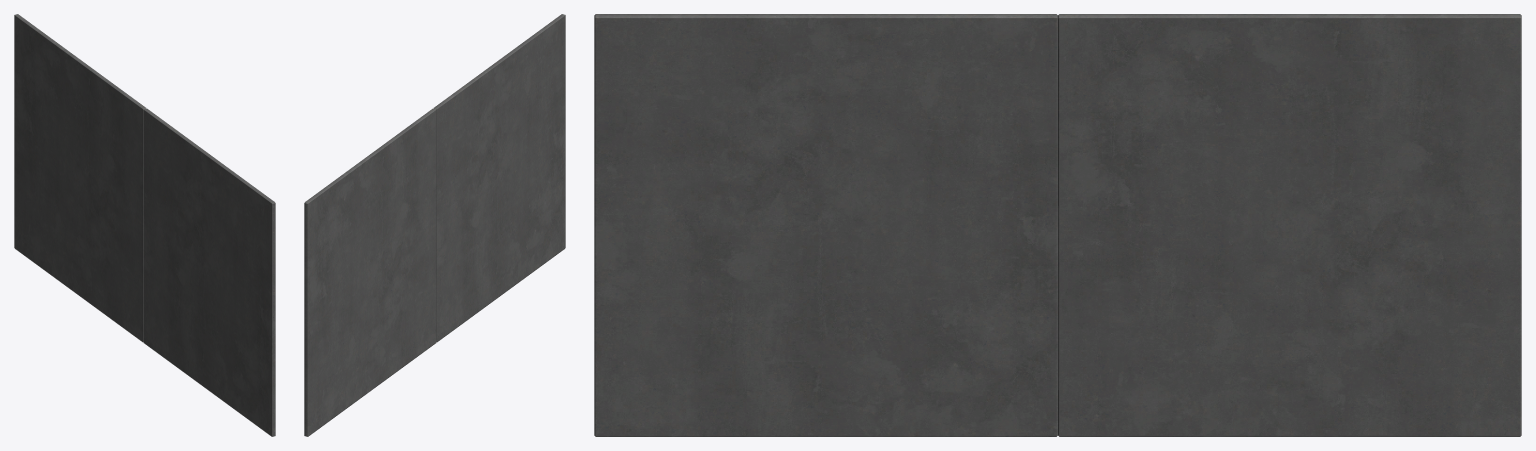
File: cP_Pathway03_Large_Comb01.dae
3 views of the same model, side by side, from view 1: azimuth 30°, elevation 25°; view 2: azimuth 150°, elevation 25°; view 3: azimuth 270°, elevation 25° (orthographic). The views are drawn at different scales.
Parts seen in each view (by area): view 1: cP_Pathway03_Large_Comb01.001; view 2: cP_Pathway03_Large_Comb01.001; view 3: cP_Pathway03_Large_Comb01.001.
Part boxes in pixels (x1=…): cP_Pathway03_Large_Comb01.001: x1=14, y1=14, x2=275, y2=436; cP_Pathway03_Large_Comb01.001: x1=304, y1=14, x2=565, y2=436; cP_Pathway03_Large_Comb01.001: x1=594, y1=14, x2=1521, y2=436.
Size of the model in its own units: 0.0653 by 8 by 4.
